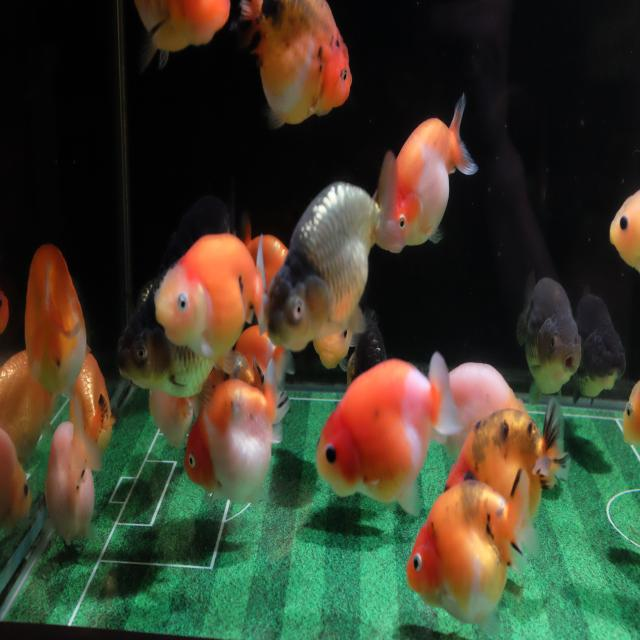Goldfish: (265, 150, 403, 352), (316, 353, 462, 519), (405, 466, 540, 638), (376, 91, 479, 256), (443, 395, 572, 525), (153, 233, 266, 375), (182, 360, 290, 506), (239, 0, 354, 133), (117, 272, 215, 398), (24, 242, 88, 404), (514, 269, 584, 408), (43, 398, 105, 554), (132, 0, 231, 74), (569, 283, 626, 406), (65, 348, 117, 472), (0, 346, 56, 456), (447, 360, 528, 427), (146, 370, 193, 451), (0, 425, 32, 536), (609, 186, 640, 278), (621, 377, 640, 452)
